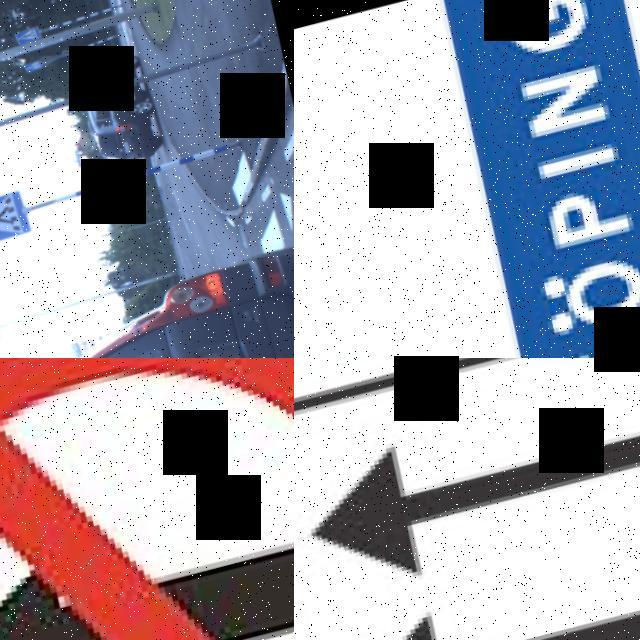180: (0, 185, 38, 251), (12, 24, 44, 46), (19, 56, 46, 76)
66: (294, 358, 640, 640)
88: (406, 0, 640, 358)
No entry: (0, 358, 294, 640)
